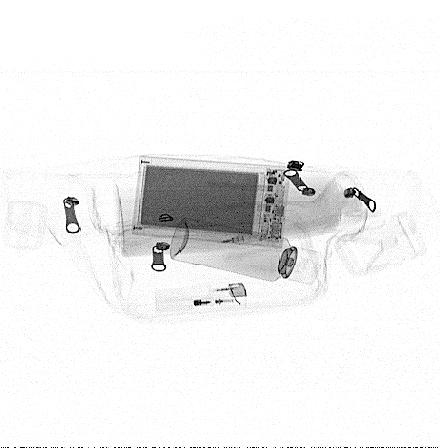Lighter: (154, 282, 248, 311)
Powerbank: (132, 156, 291, 248)
Sprayer: (169, 217, 322, 285)
